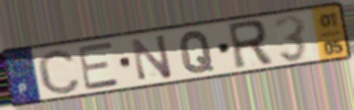3: (272, 13, 311, 64)
C: (35, 47, 83, 96)
E: (75, 40, 123, 93)
N: (128, 32, 175, 82)
Q: (178, 29, 216, 75)
R: (225, 18, 276, 73)
